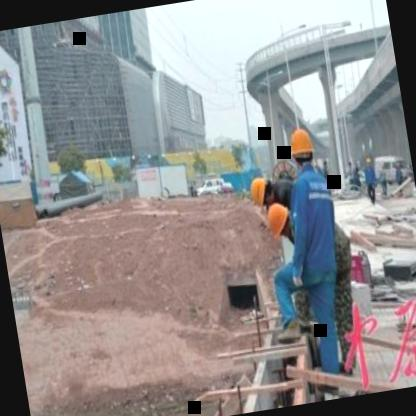helmet: (284, 123, 317, 174), (261, 199, 295, 246), (246, 174, 278, 211)
